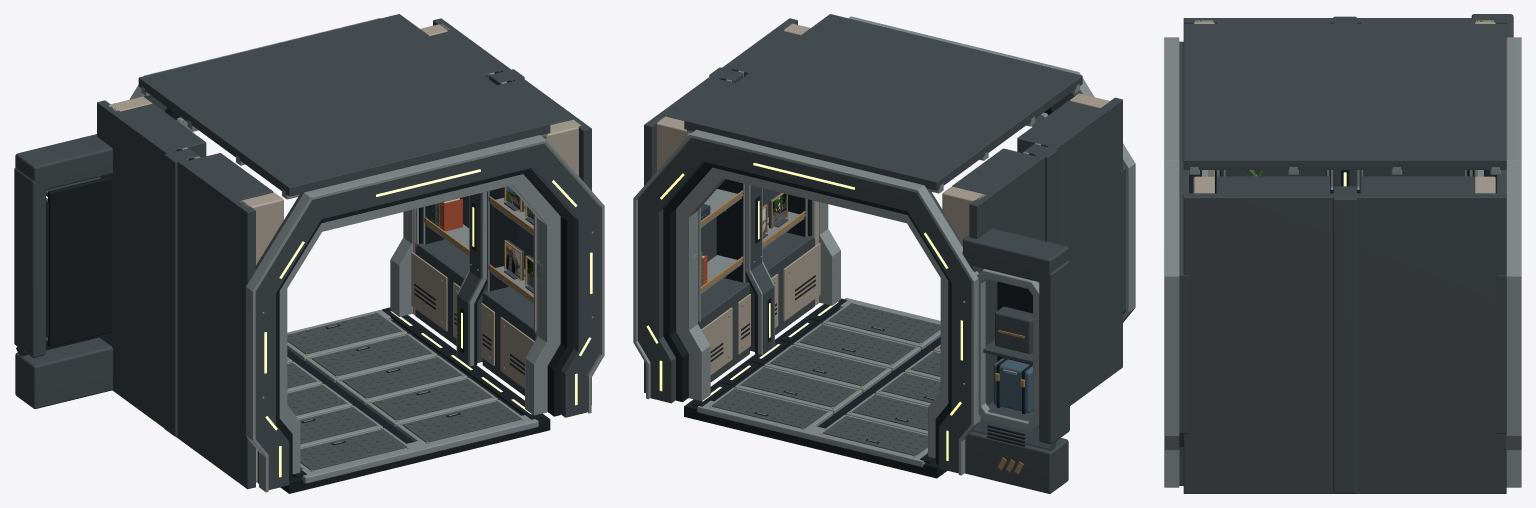
The model's file is cruz-del-sur-transition-galley-ready.glb.
The picture shows the model from 3 angles, left to right: view 1: azimuth 30°, elevation 25°; view 2: azimuth 150°, elevation 25°; view 3: azimuth 270°, elevation 25°; orthographic projection. The views are drawn at different scales.
Parts seen in each view (by area): view 1: TRANSITION_STATIC_TRANSITION_PBR_TRANSITION_Graphite_painted, TRANSITION_STATIC_TRANSITION_PBR_TRANSITION_Brushed_titanium, TRANSITION_STATIC_TRANSITION_PBR_TRANSITION_Recessed_pressur, TRANSITION_STATIC_TRANSITION_PBR_TRANSITION_Dark_manganese_t, TRANSITION_STATIC_TRANSITION_PBR_TRANSITION_Warm_ceramic_pan, TRANSITION_STATIC_TRANSITION_PBR_TRANSITION_Warm_amber_diffu, TRANSITION_STATIC_TRANSITION_PBR_TRANSITION_Anodized_warm_ed, TRANSITION_STATIC_TRANSITION_PBR_SHELVES_Curated_textile_cor; view 2: TRANSITION_STATIC_TRANSITION_PBR_TRANSITION_Graphite_painted, TRANSITION_STATIC_TRANSITION_PBR_TRANSITION_Brushed_titanium, TRANSITION_STATIC_TRANSITION_PBR_TRANSITION_Dark_manganese_t, TRANSITION_STATIC_TRANSITION_PBR_TRANSITION_Recessed_pressur, TRANSITION_STATIC_TRANSITION_PBR_TRANSITION_Warm_ceramic_pan, TRANSITION_STATIC_TRANSITION_PBR_TRANSITION_Technical_folio_, TRANSITION_STATIC_TRANSITION_PBR_TRANSITION_Anodized_warm_ed, TRANSITION_STATIC_TRANSITION_PBR_TRANSITION_Warm_amber_diffu; view 3: TRANSITION_STATIC_TRANSITION_PBR_TRANSITION_Graphite_painted, TRANSITION_STATIC_TRANSITION_PBR_TRANSITION_Brushed_titanium, TRANSITION_STATIC_TRANSITION_PBR_TRANSITION_Warm_ceramic_pan, TRANSITION_STATIC_TRANSITION_PBR_TRANSITION_Recessed_pressur.
Part boxes in pixels (bbox=[...]): TRANSITION_STATIC_TRANSITION_PBR_TRANSITION_Graphite_painted: bbox=[14, 14, 599, 489]; TRANSITION_STATIC_TRANSITION_PBR_TRANSITION_Brushed_titanium: bbox=[129, 18, 604, 492]; TRANSITION_STATIC_TRANSITION_PBR_TRANSITION_Recessed_pressur: bbox=[48, 71, 573, 493]; TRANSITION_STATIC_TRANSITION_PBR_TRANSITION_Dark_manganese_t: bbox=[287, 313, 521, 470]; TRANSITION_STATIC_TRANSITION_PBR_TRANSITION_Warm_ceramic_pan: bbox=[108, 23, 580, 482]; TRANSITION_STATIC_TRANSITION_PBR_TRANSITION_Warm_amber_diffu: bbox=[264, 169, 592, 477]; TRANSITION_STATIC_TRANSITION_PBR_TRANSITION_Anodized_warm_ed: bbox=[287, 187, 533, 471]; TRANSITION_STATIC_TRANSITION_PBR_SHELVES_Curated_textile_cor: bbox=[440, 199, 462, 231]; TRANSITION_STATIC_TRANSITION_PBR_TRANSITION_Graphite_painted: bbox=[638, 14, 1125, 493]; TRANSITION_STATIC_TRANSITION_PBR_TRANSITION_Brushed_titanium: bbox=[633, 16, 1135, 475]; TRANSITION_STATIC_TRANSITION_PBR_TRANSITION_Dark_manganese_t: bbox=[712, 303, 940, 455]; TRANSITION_STATIC_TRANSITION_PBR_TRANSITION_Recessed_pressur: bbox=[663, 69, 1059, 478]; TRANSITION_STATIC_TRANSITION_PBR_TRANSITION_Warm_ceramic_pan: bbox=[657, 23, 1109, 398]; TRANSITION_STATIC_TRANSITION_PBR_TRANSITION_Technical_folio_: bbox=[993, 358, 1032, 413]; TRANSITION_STATIC_TRANSITION_PBR_TRANSITION_Anodized_warm_ed: bbox=[701, 191, 1024, 474]; TRANSITION_STATIC_TRANSITION_PBR_TRANSITION_Warm_amber_diffu: bbox=[646, 163, 962, 460]; TRANSITION_STATIC_TRANSITION_PBR_TRANSITION_Graphite_painted: bbox=[1179, 14, 1513, 493]; TRANSITION_STATIC_TRANSITION_PBR_TRANSITION_Brushed_titanium: bbox=[1164, 37, 1521, 487]; TRANSITION_STATIC_TRANSITION_PBR_TRANSITION_Warm_ceramic_pan: bbox=[1193, 20, 1495, 193]; TRANSITION_STATIC_TRANSITION_PBR_TRANSITION_Recessed_pressur: bbox=[1189, 170, 1496, 193].
Size of the model in its own units: 4.92 by 3.36 by 3.32.
Materials: 43 (24 with a texture image).
